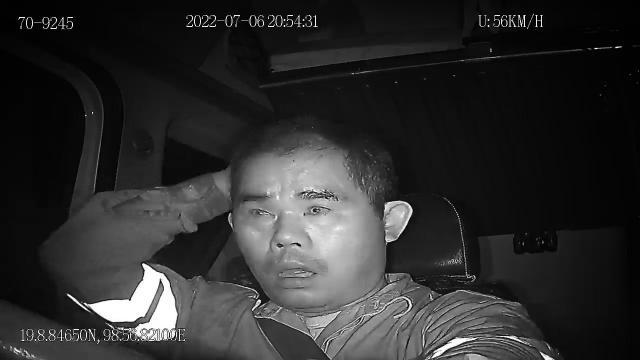SafeDriving: (296, 194, 342, 221), (240, 197, 280, 222)
Seatbelt: (224, 268, 334, 360)
